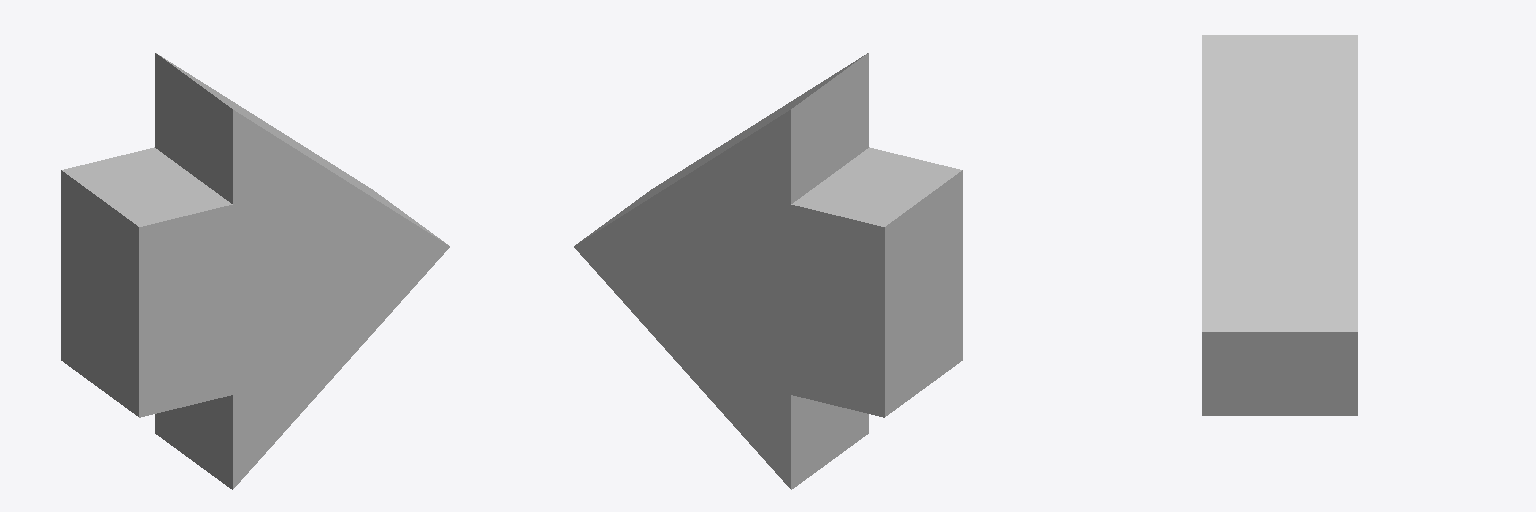
The model's file is Arrow_79.obj.
The picture shows the model from 3 angles: view 1: azimuth 30°, elevation 25°; view 2: azimuth 150°, elevation 25°; view 3: azimuth 270°, elevation 25°; orthographic projection.
Visible parts, largest first — view 1: Arrow_79; view 2: Arrow_79; view 3: Arrow_79.
Boxes of the visible parts, box(x1,y1,x2,y2) form: Arrow_79: box(61, 53, 449, 489); Arrow_79: box(574, 53, 962, 489); Arrow_79: box(1202, 35, 1357, 415).
Size of the model in its own units: 1.71 by 2 by 0.7423.